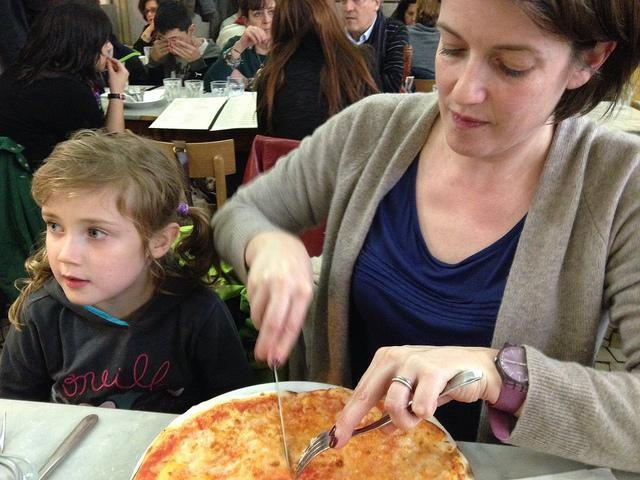person: (206, 1, 640, 471), (3, 128, 264, 407), (249, 1, 382, 141), (6, 2, 132, 145), (328, 1, 426, 99), (124, 4, 233, 89), (209, 1, 284, 91), (135, 1, 170, 58), (392, 2, 418, 26)
